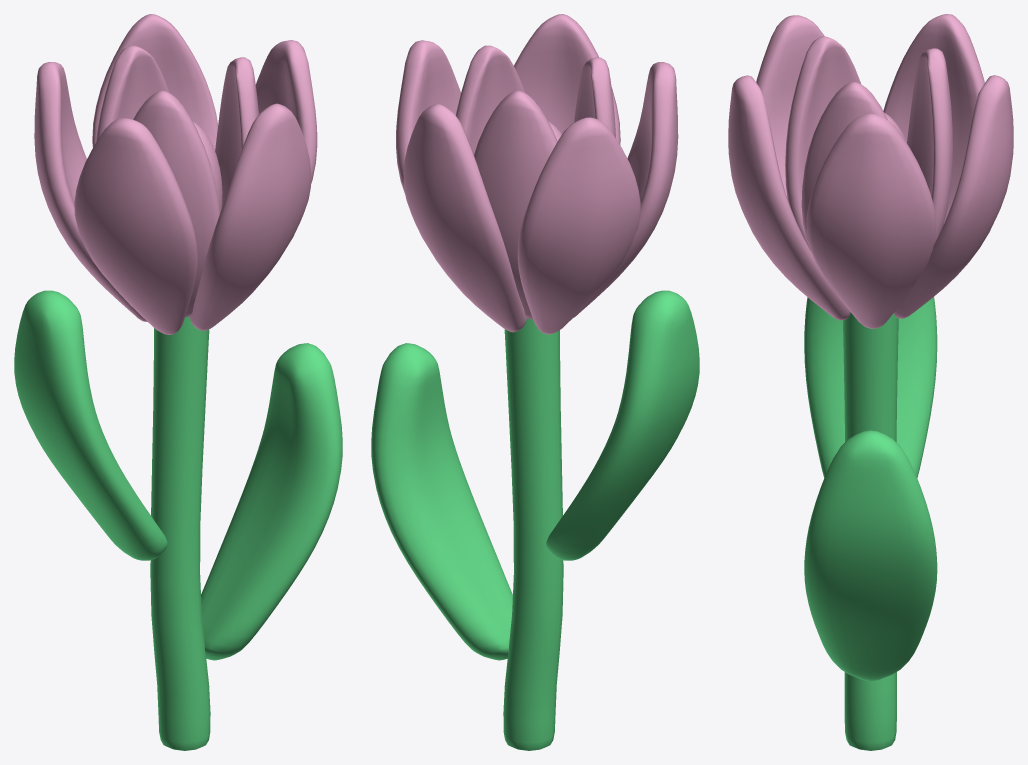
File: DGLXX_tulip.fbx
3 views of the same model, side by side, from view 1: azimuth 30°, elevation 25°; view 2: azimuth 150°, elevation 25°; view 3: azimuth 270°, elevation 25° (orthographic).
Visible parts, largest first — view 1: polySurface121, polySurface114, polySurface119, polySurface122, polySurface123, polySurface126, polySurface112, polySurface125, polySurface124, polySurface127, polySurface128, polySurface115; view 2: polySurface121, polySurface114, polySurface126, polySurface122, polySurface125, polySurface128, polySurface119, polySurface123, polySurface124, polySurface127, polySurface112; view 3: polySurface121, polySurface124, polySurface122, polySurface123, polySurface125, polySurface114, polySurface126, polySurface112, polySurface128, polySurface119, polySurface127.
Boxes of the visible parts, x1,y1,x2,y2 form: polySurface121: [201, 343, 342, 660]; polySurface114: [150, 315, 210, 750]; polySurface119: [74, 118, 197, 334]; polySurface122: [14, 290, 167, 560]; polySurface123: [190, 103, 311, 330]; polySurface126: [34, 62, 147, 321]; polySurface112: [133, 90, 219, 317]; polySurface125: [92, 14, 217, 150]; polySurface124: [255, 40, 317, 182]; polySurface127: [215, 57, 258, 207]; polySurface128: [96, 45, 169, 142]; polySurface115: [193, 121, 222, 213]; polySurface121: [371, 343, 512, 660]; polySurface114: [503, 318, 563, 750]; polySurface126: [517, 117, 640, 334]; polySurface122: [546, 290, 699, 560]; polySurface125: [403, 104, 526, 332]; polySurface128: [474, 90, 557, 319]; polySurface119: [573, 62, 678, 317]; polySurface123: [514, 14, 620, 144]; polySurface124: [396, 40, 460, 194]; polySurface127: [456, 45, 524, 154]; polySurface112: [574, 57, 615, 137]; polySurface121: [804, 430, 937, 681]; polySurface124: [806, 113, 936, 328]; polySurface122: [804, 297, 937, 477]; polySurface123: [728, 75, 850, 320]; polySurface125: [894, 75, 1013, 318]; polySurface114: [843, 312, 898, 750]; polySurface126: [883, 14, 984, 223]; polySurface112: [785, 36, 860, 250]; polySurface128: [907, 48, 952, 243]; polySurface119: [756, 15, 824, 196]; polySurface127: [801, 81, 887, 247].
Size of the model in its own units: 210 by 461 by 175.
